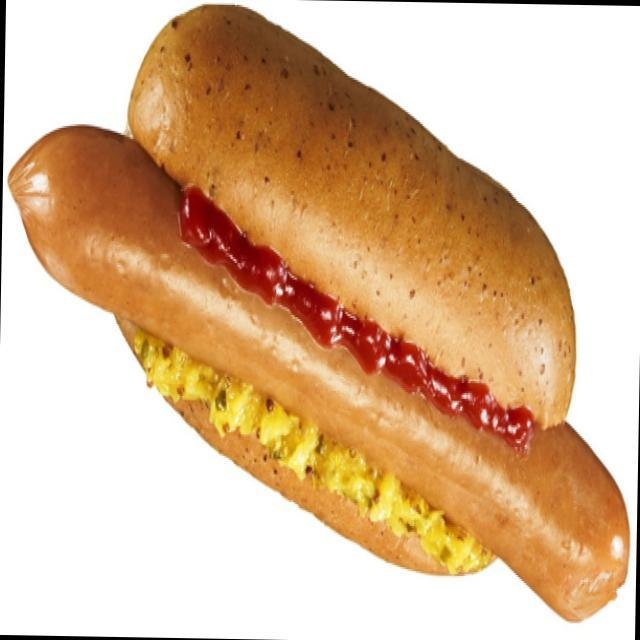Hot Dog: (3, 32, 640, 640)
